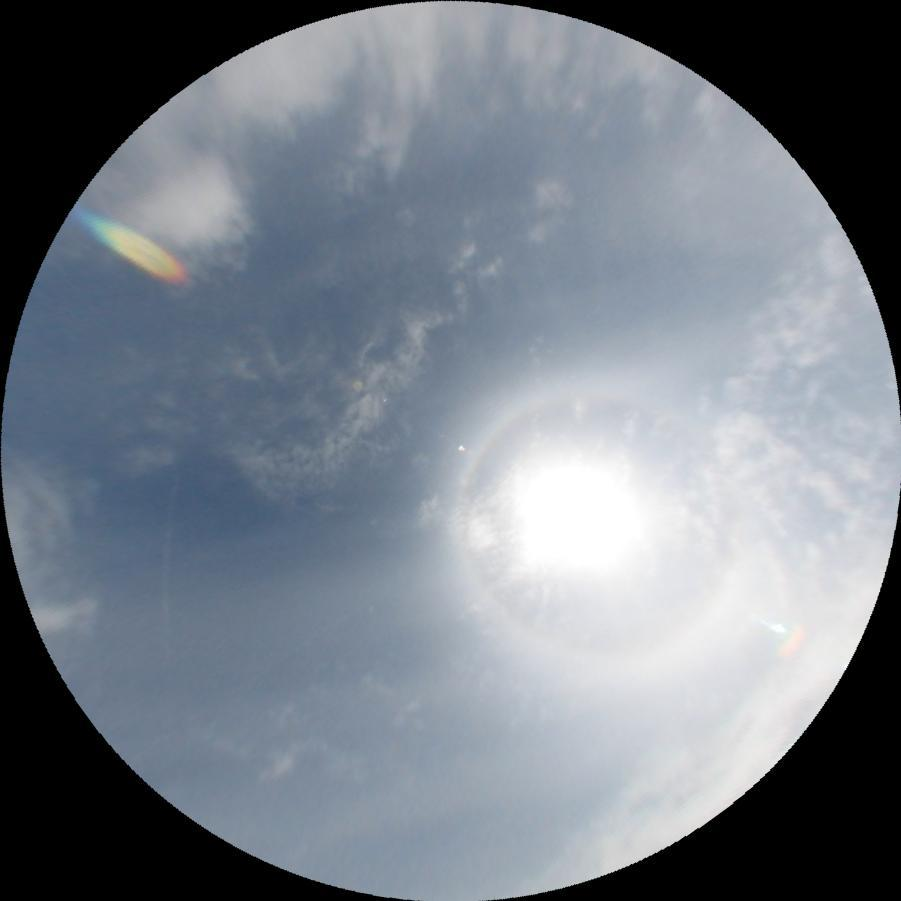contrail young: (157, 471, 181, 655)
sun: (509, 458, 644, 572)
